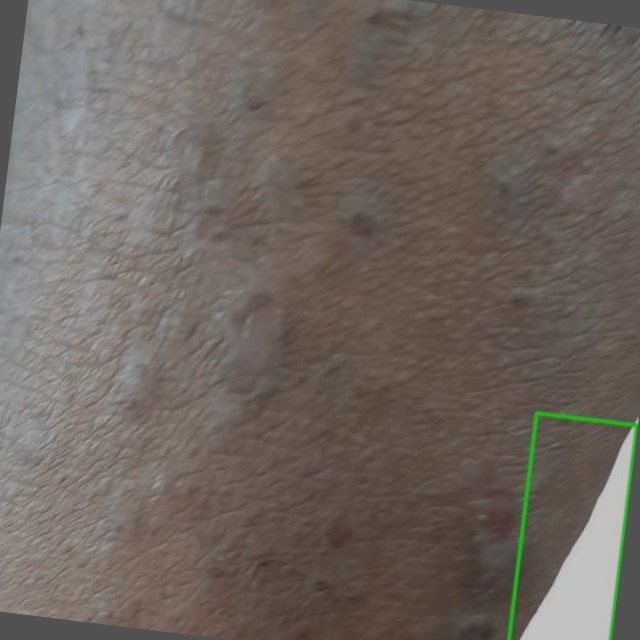Atopic Dermatitis: (509, 413, 637, 639)
